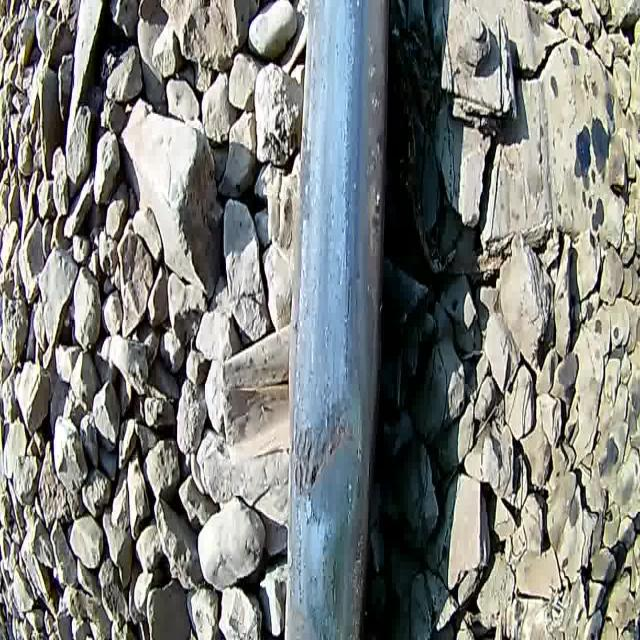Squats: (275, 390, 388, 640)
